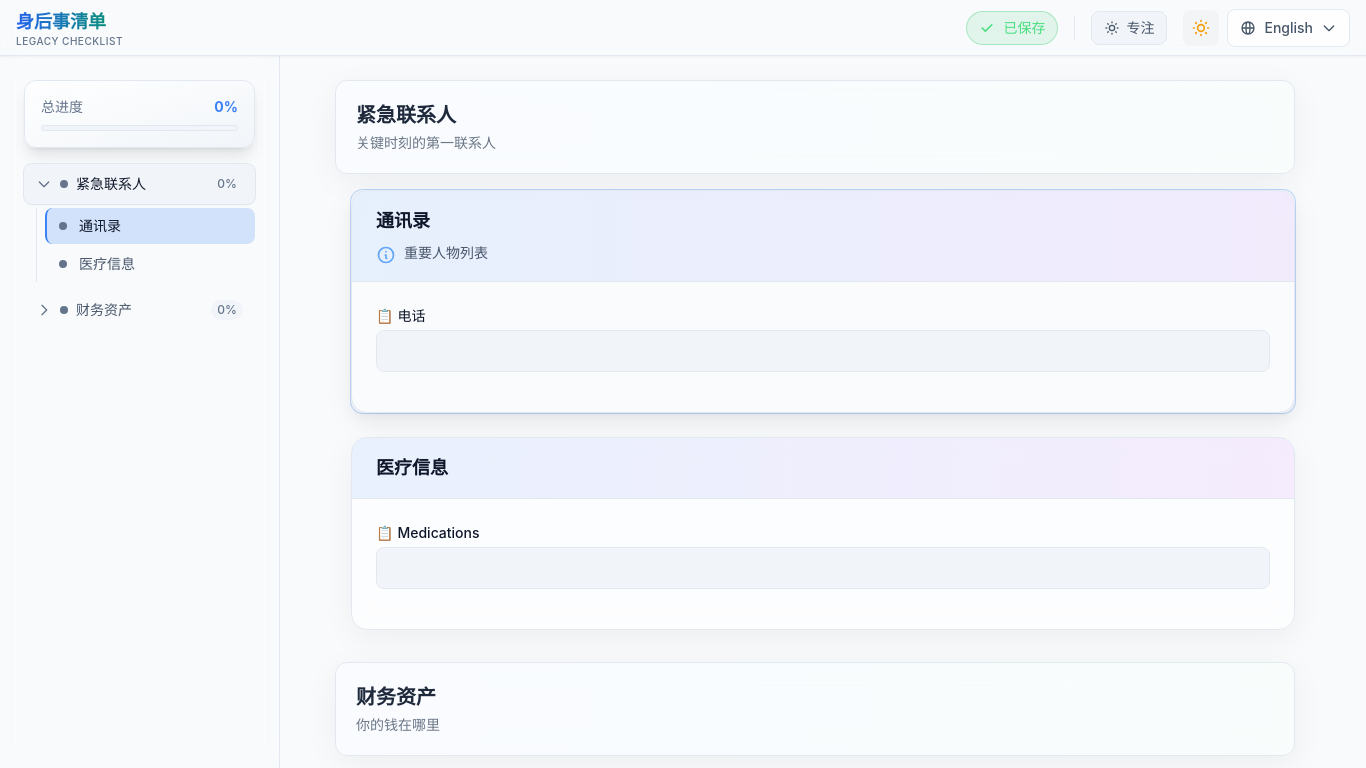
Test: ChecklistPage › Mode Toggle (Requirement 1.5) › should switch from free mode to zen mode when mode button is clicked
The image size is (1366, 768).
Click the button with aria-label "切换到专注模式" at point(1129, 28), box [1091, 10, 1167, 44]
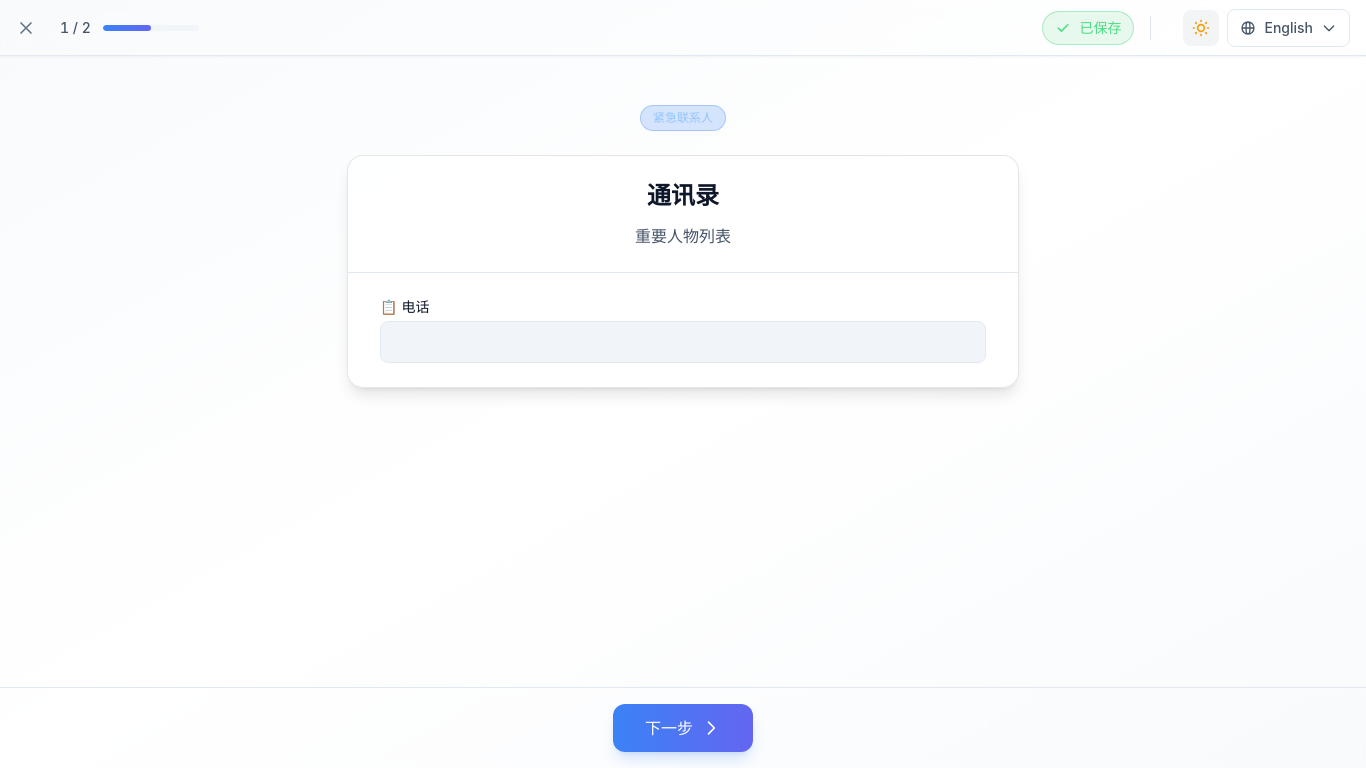
Check: the element with test id "zen-mode-view" is shown
